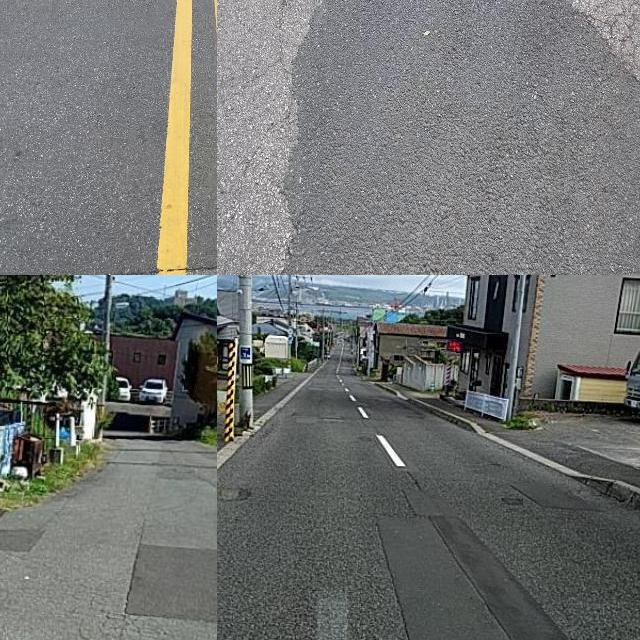Sambungan: (282, 0, 640, 275), (0, 0, 217, 275), (380, 515, 569, 640), (121, 543, 217, 618)
